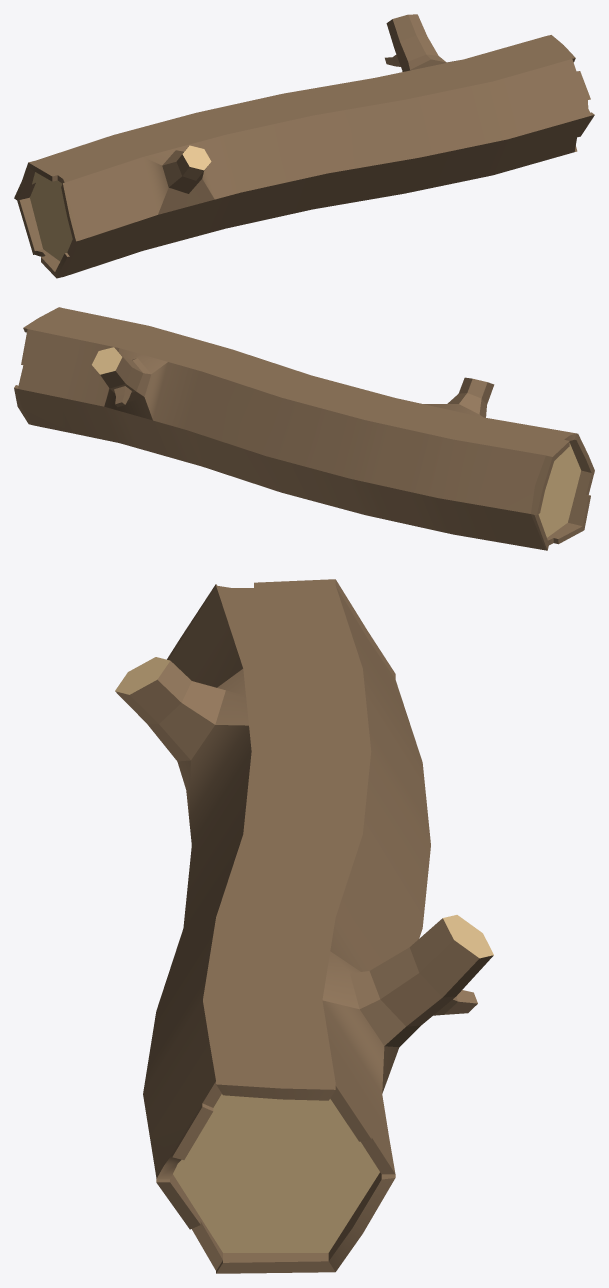
The model's file is woodLog1.fbx.
3 views of the same model, one above another, from view 1: azimuth 30°, elevation 25°; view 2: azimuth 150°, elevation 25°; view 3: azimuth 270°, elevation 25° (orthographic). The views are drawn at different scales.
Parts seen in each view (by area): view 1: pCylinder58; view 2: pCylinder58; view 3: pCylinder58.
Part boxes in pixels (x1=…): pCylinder58: x1=14, y1=14, x2=594, y2=278; pCylinder58: x1=14, y1=307, x2=594, y2=550; pCylinder58: x1=115, y1=579, x2=493, y2=1273.
Bounding box in the file's own units: 5.44 × 1.22 × 1.7.
